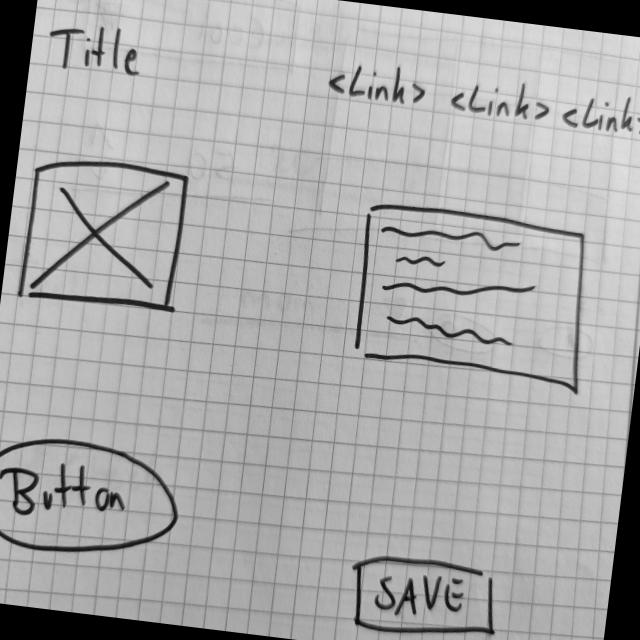button: (1, 426, 187, 569), (346, 548, 502, 640)
image: (12, 151, 194, 322)
label: (43, 17, 152, 82)
link: (322, 55, 433, 116), (448, 73, 557, 130), (559, 87, 640, 144)
textbox: (345, 195, 600, 394)
